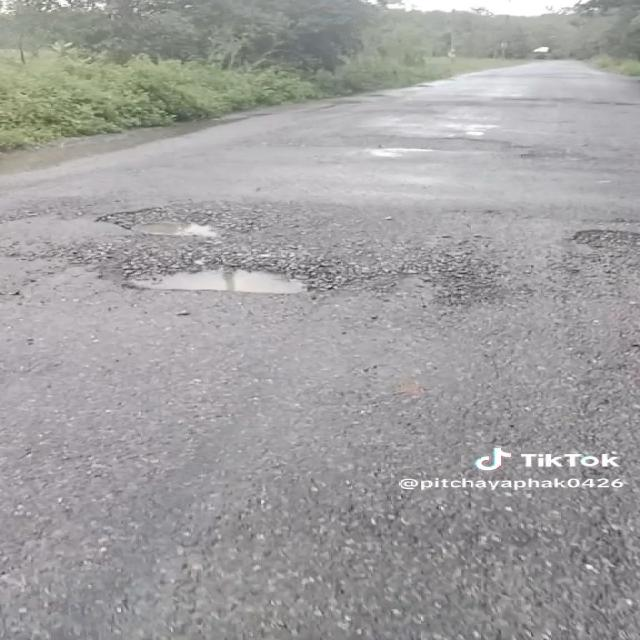Poth-hole: (97, 184, 322, 252)
